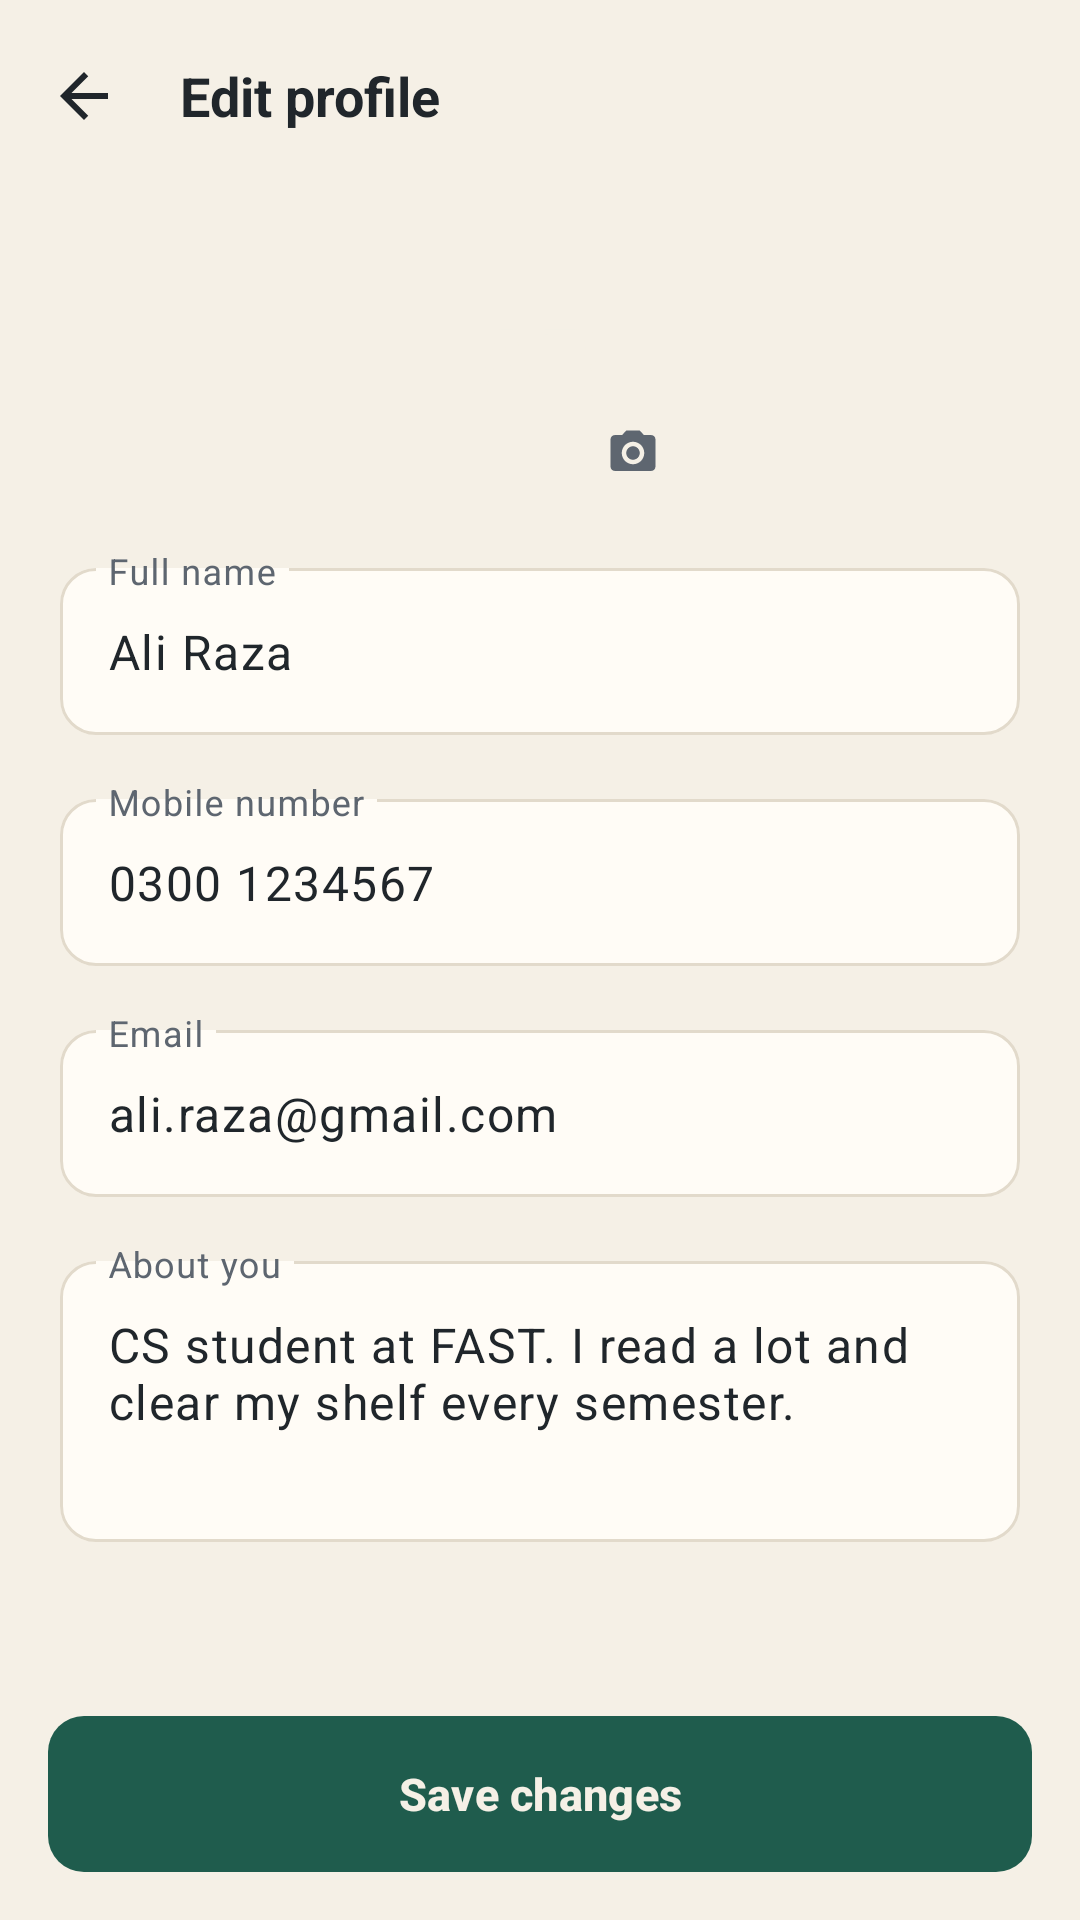

Locate icon controls on the screen. Image size 1080x1920, boxes as box=[x1, y1, x2, y2].
camera: box=[610, 430, 656, 471]
